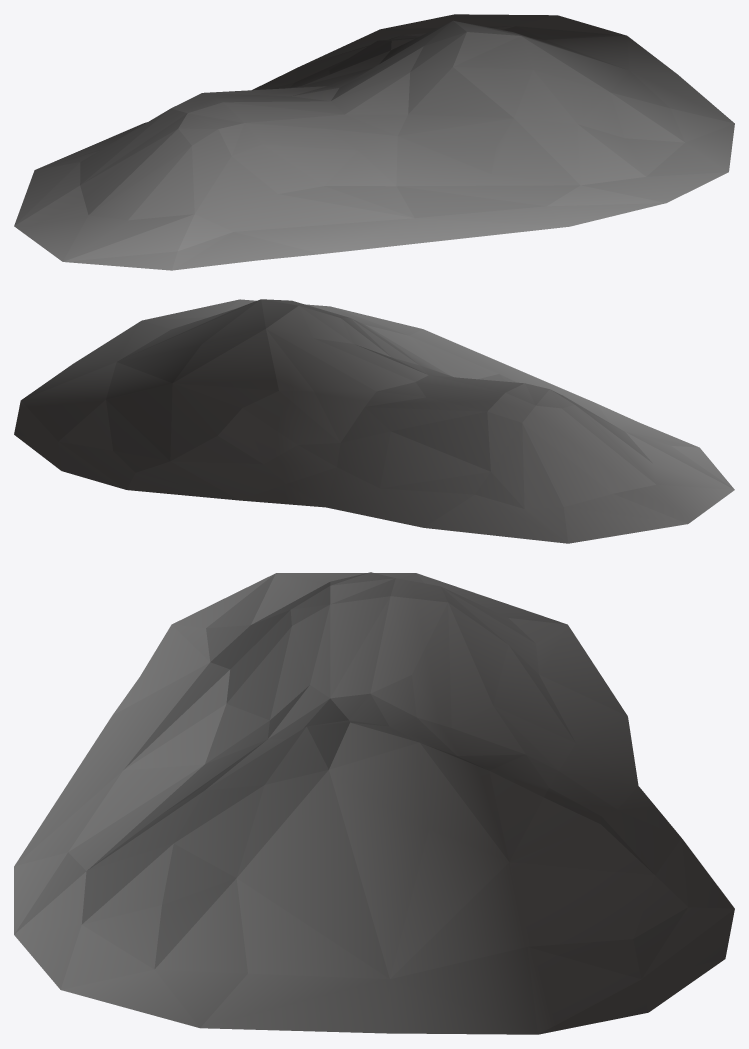
The model's file is SM_Gen_Env_Hill_02.glb.
3 renders of one model, top to bottom at view 1: azimuth 30°, elevation 25°; view 2: azimuth 150°, elevation 25°; view 3: azimuth 270°, elevation 25°, orthographic. The views are drawn at different scales.
Parts seen in each view (by area): view 1: SM_Gen_Env_Hill_02; view 2: SM_Gen_Env_Hill_02; view 3: SM_Gen_Env_Hill_02.
Part boxes in pixels (<box>): SM_Gen_Env_Hill_02: <box>14,14,734,270</box>; SM_Gen_Env_Hill_02: <box>14,299,734,543</box>; SM_Gen_Env_Hill_02: <box>14,572,734,1034</box>.
Bounding box in the file's own units: 42.97 × 6.66 × 28.37.
1 material, 1 textured.
